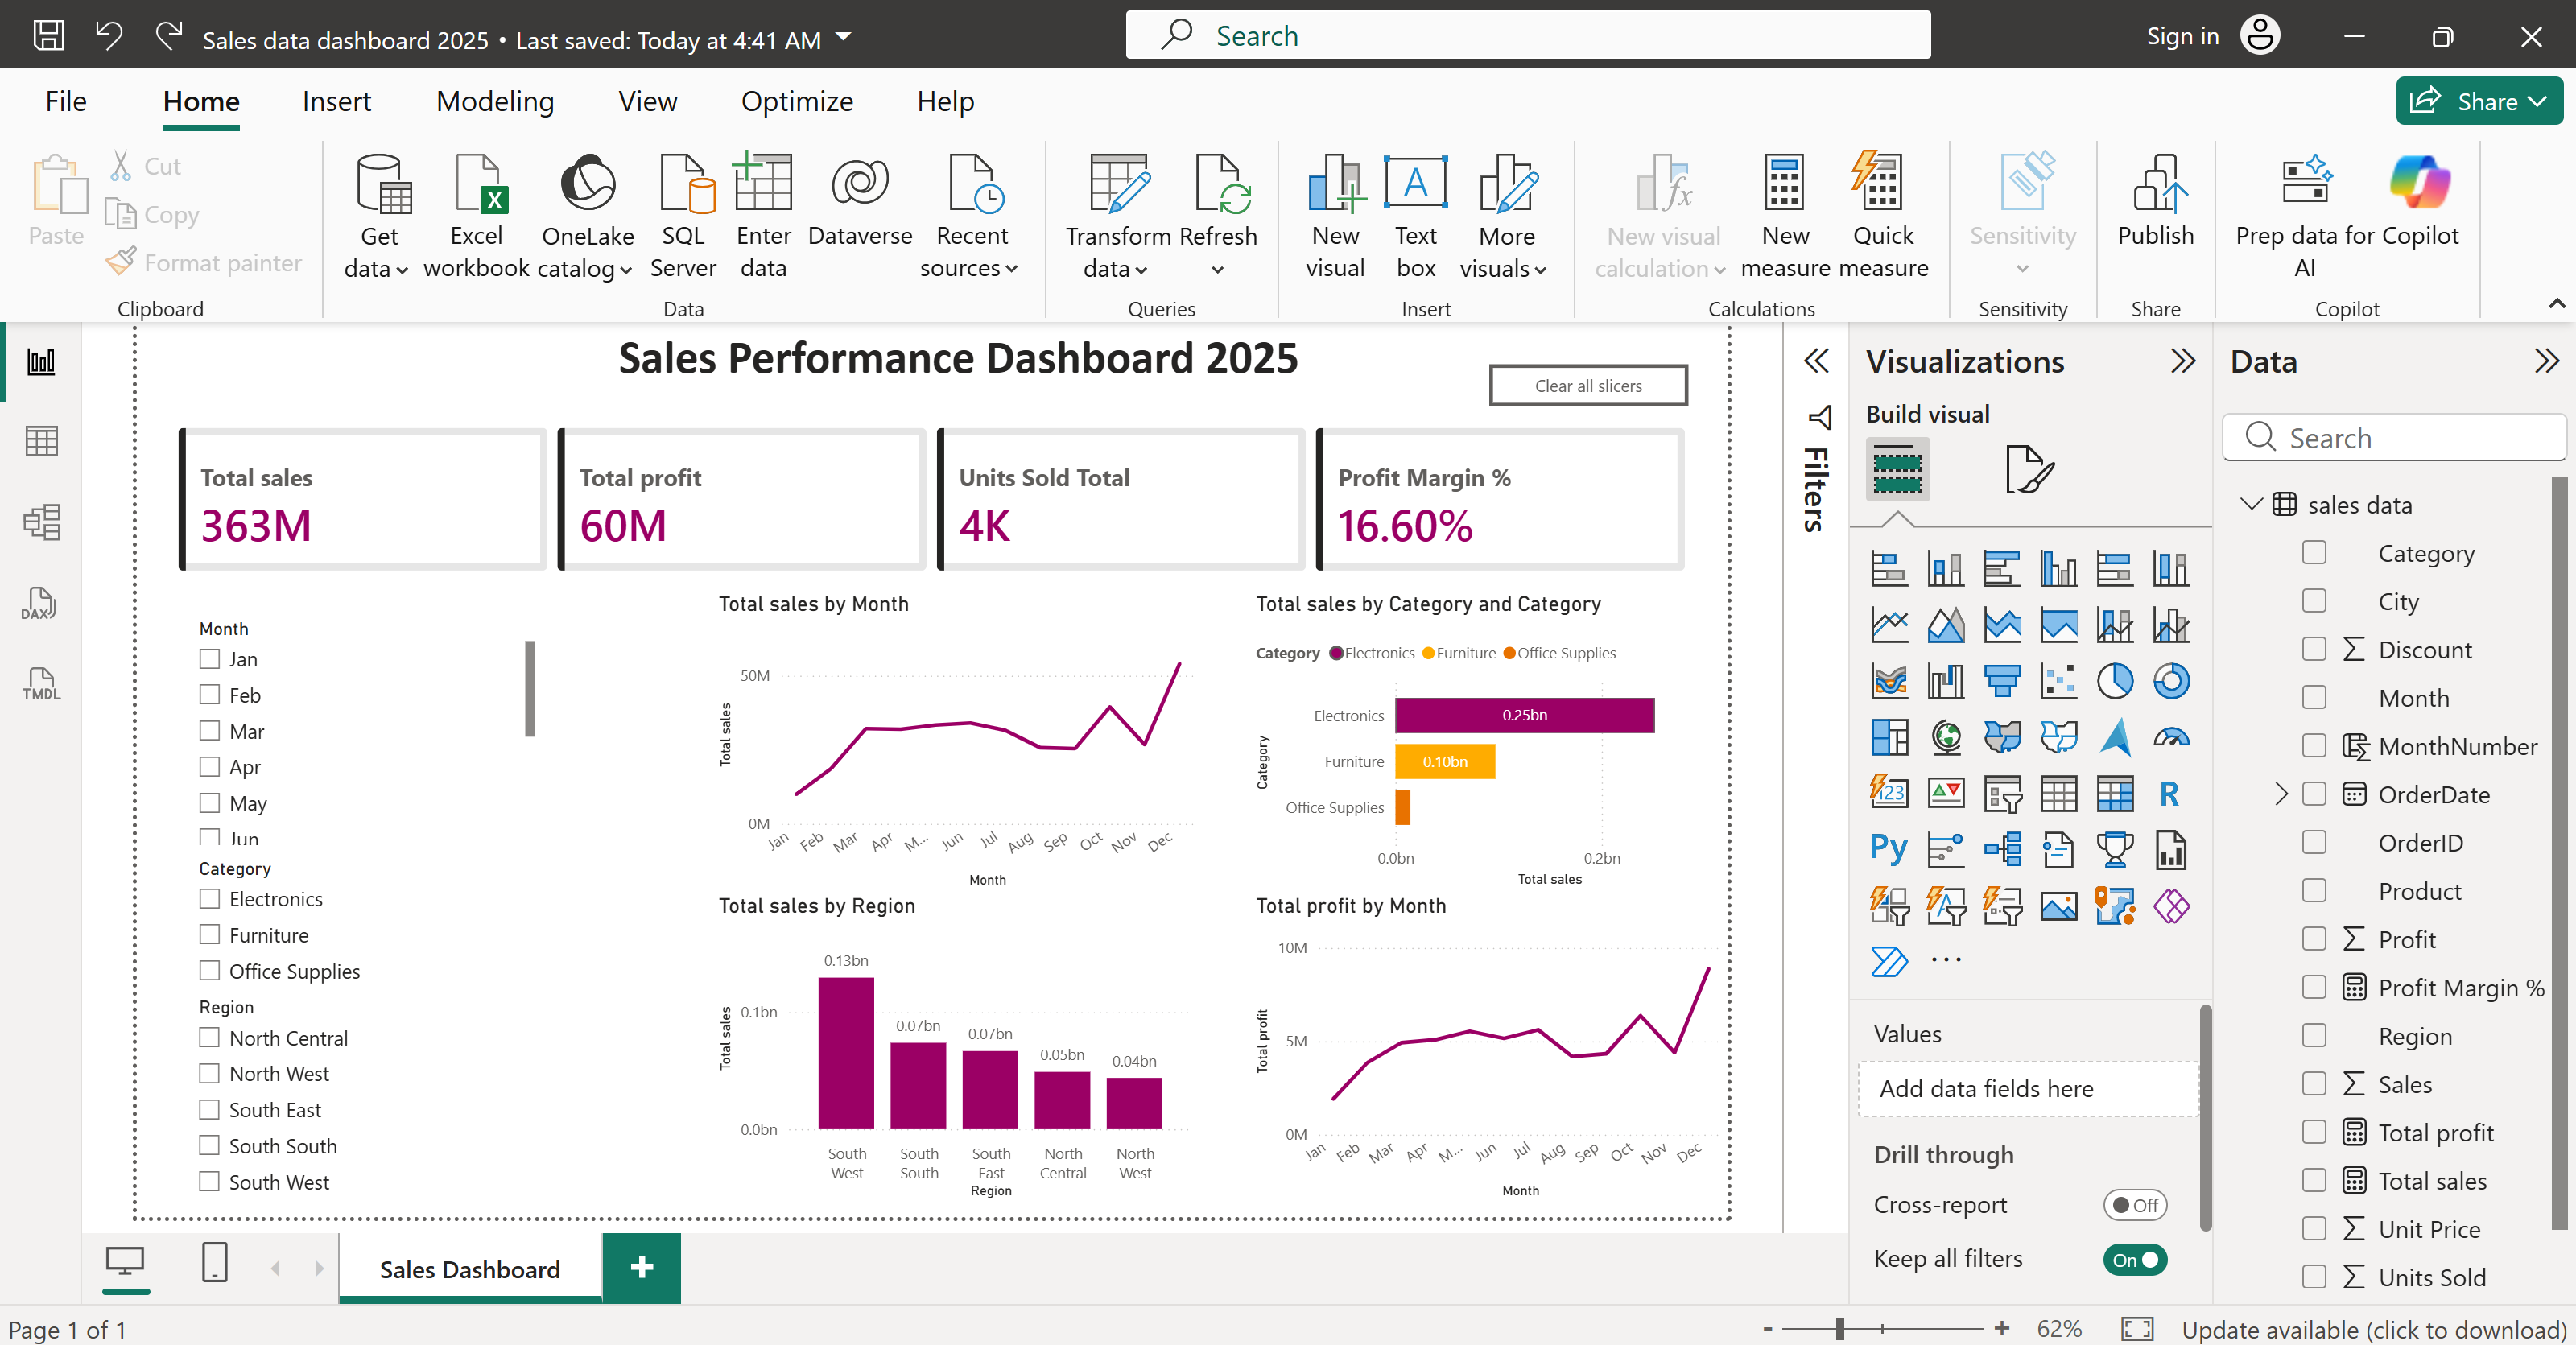

The dashboard page shown, as its layout file describes it:
{"tool":"powerbi","page":{"name":"Sales Dashboard","canvas":[1280,720],"ordinal":0},"visuals":[{"type":"textbox","box":[132.4,0,1057.2,68.1],"z":0},{"type":"cardVisual","fields":{"Data":["sales data.Total sales","sales data.Total profit","sales data.Units Sold Total","sales data.Profit Margin %","sales data.Profit Margin %"]},"box":[15.9,68.1,1248.2,149.4],"z":1000},{"type":"clusteredColumnChart","fields":{"Category":["sales data.Region"],"Y":["sales data.Total sales"]},"box":[463.4,459.6,391.5,249.6],"z":2000},{"type":"lineChart","fields":{"Category":["sales data.Month"],"Y":["sales data.Total sales"]},"box":[463,216.9,391.7,242.8],"z":3000},{"type":"barChart","fields":{"Category":["sales data.Category"],"Series":["sales data.Category"],"Y":["sales data.Total sales"]},"box":[894.6,217.5,385.8,242.1],"z":4000},{"type":"slicer","fields":{"Values":["sales data.Region"]},"box":[37.8,537.1,287.5,183.5],"z":5000},{"type":"slicer","fields":{"Values":["sales data.Category"]},"box":[37.8,425.5,287.5,115.4],"z":6000},{"type":"actionButton","box":[1087.8,34,160.3,34],"z":7000},{"type":"lineChart","fields":{"Category":["sales data.Month"],"Y":["sales data.Total profit"]},"box":[895,460,385,250],"z":8000},{"type":"slicer","fields":{"Values":["sales data.Month"]},"box":[37.2,233.1,288.1,192.6],"z":9000}]}

Visuals, with their boxes on the page's 1280x720 design canvas (x1, y1, x2, y2). These are canvas units, not pixel positions in the 2576x1345 screenshot, which may show the page scaled, cropped or inside an application window:
textbox: 132 0 1190 68
cardVisual - sales data.Total sales x sales data.Total profit: 16 68 1264 218
clusteredColumnChart - sales data.Region x sales data.Total sales: 463 460 855 709
lineChart - sales data.Month x sales data.Total sales: 463 217 855 460
barChart - sales data.Category x sales data.Category: 895 218 1280 460
slicer - sales data.Region: 38 537 325 721
slicer - sales data.Category: 38 426 325 541
actionButton: 1088 34 1248 68
lineChart - sales data.Month x sales data.Total profit: 895 460 1280 710
slicer - sales data.Month: 37 233 325 426
